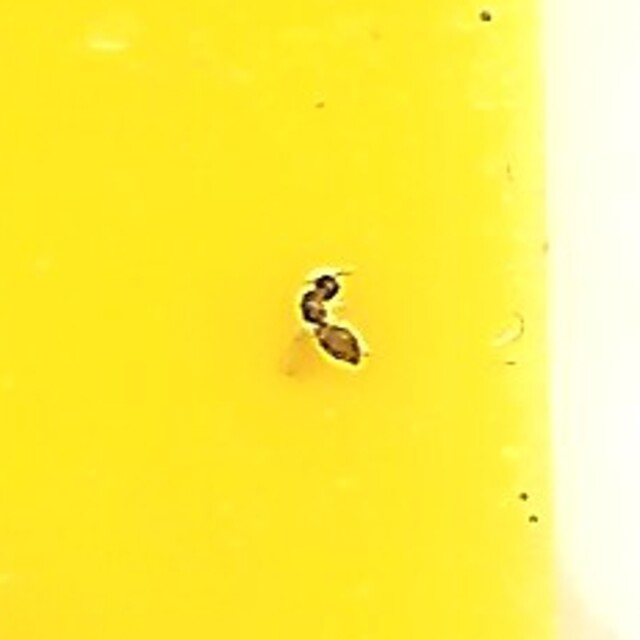Hymenoptera: (277, 262, 363, 378)
